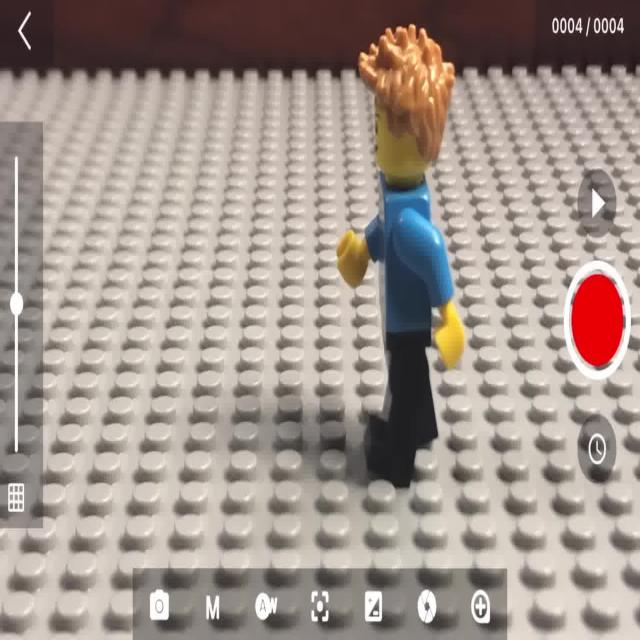4: (401, 215, 466, 368), (334, 210, 385, 287)
hand: (356, 45, 454, 494)
